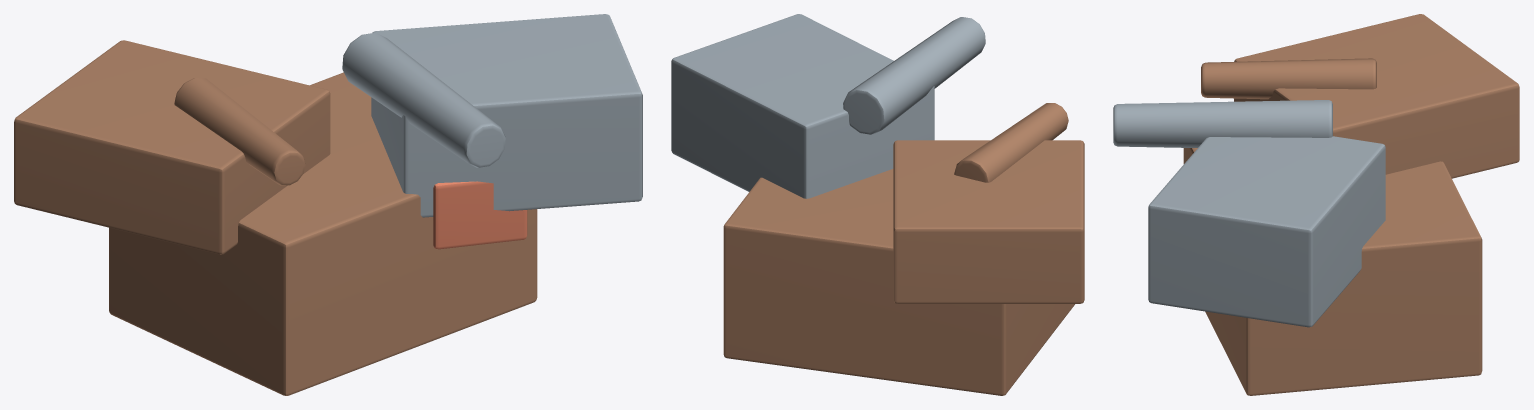
File: junk_pile.glb
3 renders of one model, left to right at view 1: azimuth 30°, elevation 25°; view 2: azimuth 150°, elevation 25°; view 3: azimuth 270°, elevation 25°, orthographic. The views are drawn at different scales.
Parts seen in each view (by area): view 1: junk_pile; view 2: junk_pile; view 3: junk_pile.
Part boxes in pixels (bbox=[...]): junk_pile: bbox=[14, 14, 642, 395]; junk_pile: bbox=[671, 14, 1084, 395]; junk_pile: bbox=[1113, 14, 1519, 395].
Bounding box in the file's own units: 1.27 × 0.6039 × 0.925.
